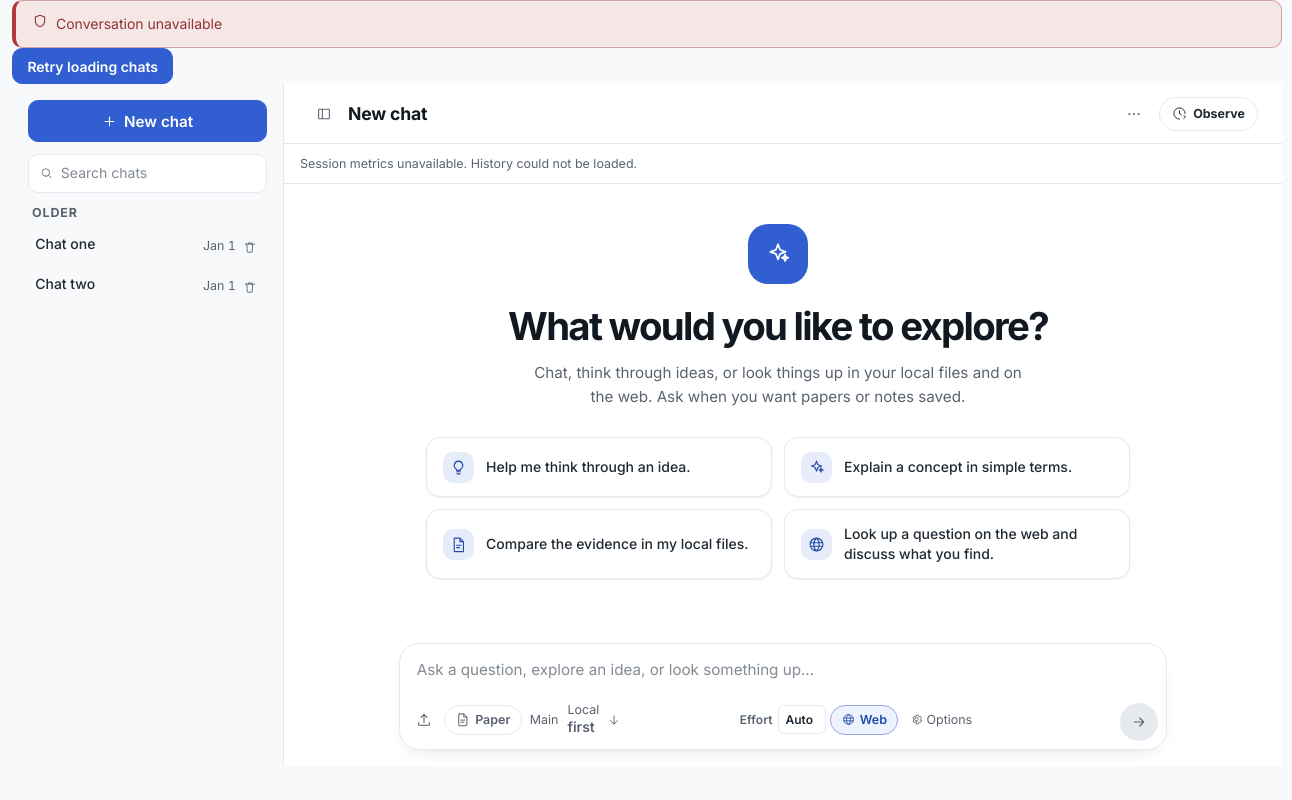
Test case: chat continuity and recovery › offers retry for an initial conversation failure rather than silently spinning
expect the message "Conversation unavailable" is shown: met, box x1=12 y1=0 x2=1282 y2=48
Click the button "Retry loading chats" at coordinates (93, 66), box x1=12 y1=48 x2=173 y2=84
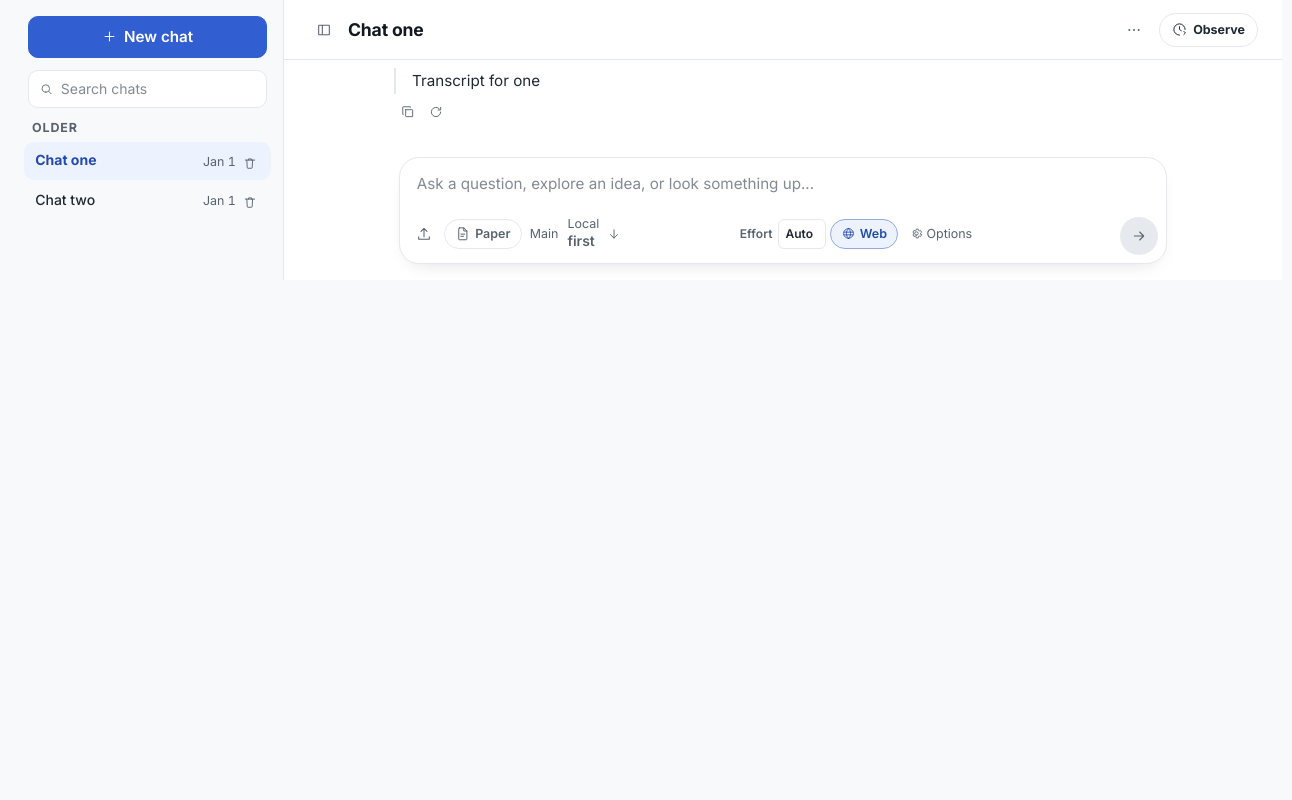
expect the heading "Chat one" is shown: met, box x1=348 y1=18 x2=424 y2=40
expect the message "Conversation unavailable" is gone: met
